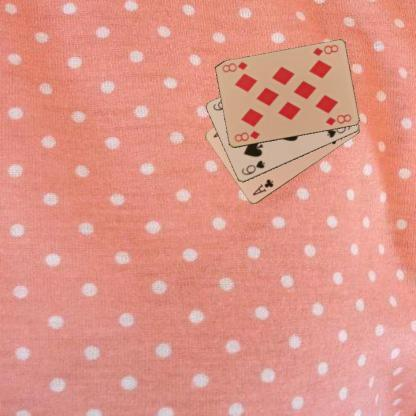6s: (238, 158, 266, 176)
8d: (232, 128, 261, 144), (310, 42, 339, 57)
Ac: (250, 177, 274, 197)
